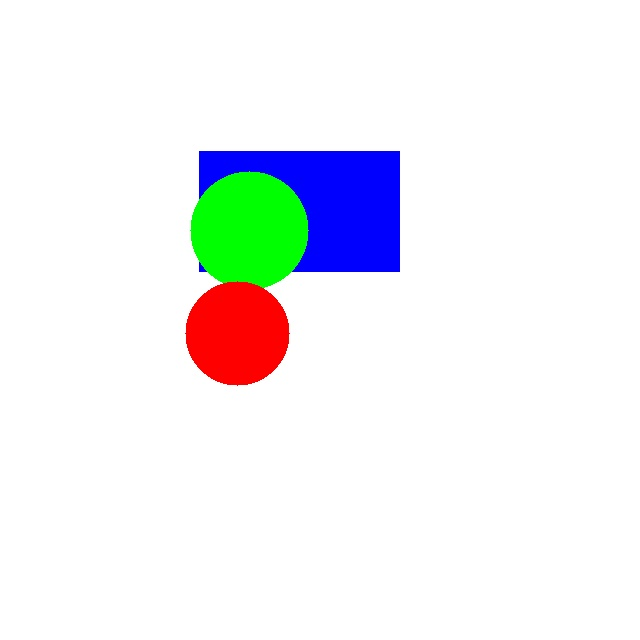cartao: (199, 151, 399, 271)
rosca_externa: (190, 171, 308, 289)
rosca_interna: (185, 281, 289, 385)
